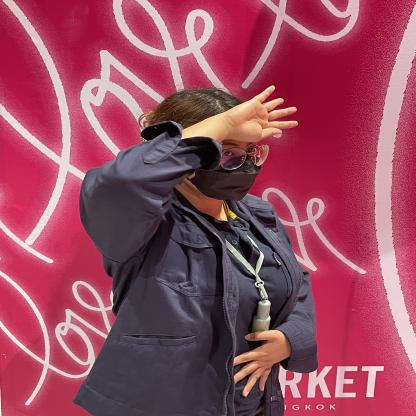Sick: (158, 80, 336, 154)
